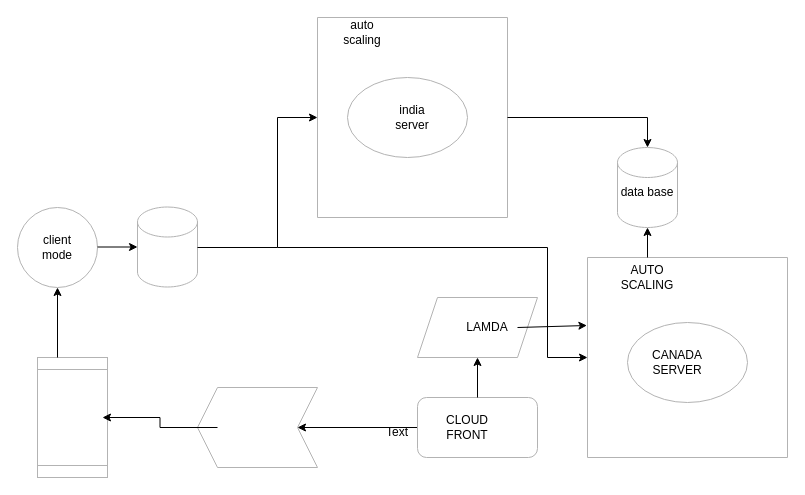
The diagram is 805 pixels wide and 495 high, and some of its shapes have lost their labels. Here are the shapes that lost their labels. From the top down, the box of each, then its label:
(136, 206, 198, 287): load balancer
(36, 356, 108, 478): mobile
(196, 386, 318, 468): API
